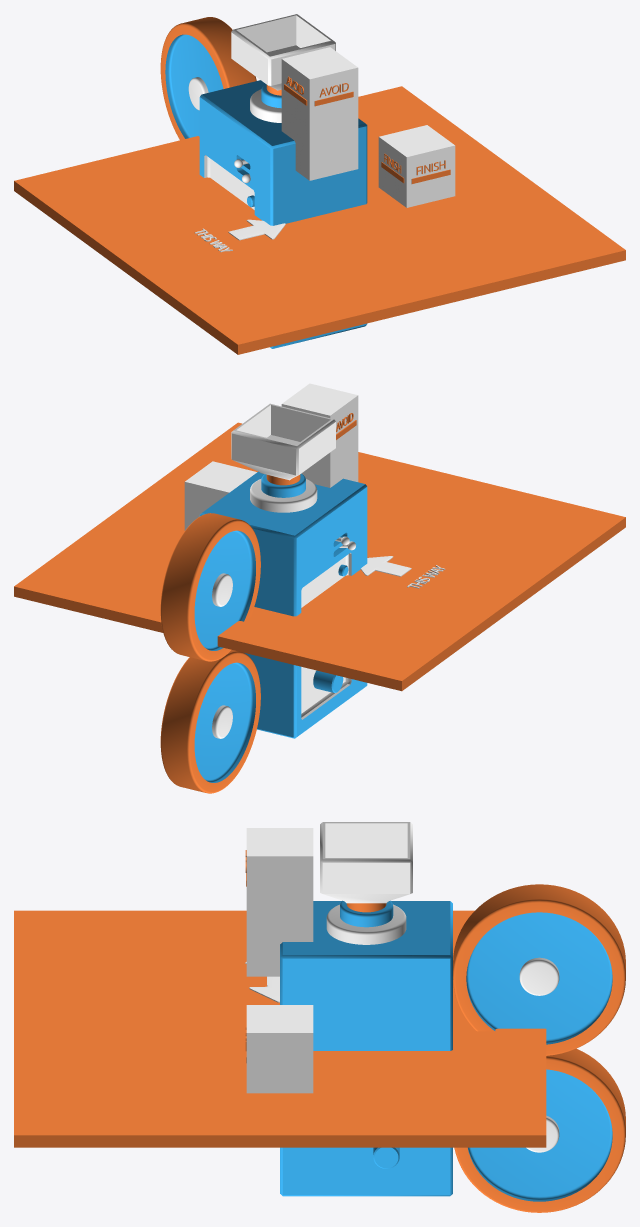
The model's file is stage.glb.
3 renders of one model, top to bottom at view 1: azimuth 30°, elevation 25°; view 2: azimuth 150°, elevation 25°; view 3: azimuth 270°, elevation 25°, orthographic. The views are drawn at different scales.
Visible parts, largest first — view 1: floor, Buffer Layer (×3), box (×2), Pin; view 2: floor, Buffer Layer (×3), box (×2), Pin; view 3: floor, Buffer Layer (×3), box (×2).
Boxes of the visible parts, left/top/right/bottom form: floor: left=14, top=86, right=625, bottom=354; Buffer Layer (×3): left=160, top=14, right=367, bottom=348; box (×2): left=281, top=47, right=455, bottom=207; Pin: left=228, top=219, right=285, bottom=240; floor: left=14, top=422, right=625, bottom=691; Buffer Layer (×3): left=160, top=403, right=367, bottom=793; box (×2): left=184, top=383, right=358, bottom=530; Pin: left=360, top=556, right=411, bottom=576; floor: left=14, top=910, right=546, bottom=1147; Buffer Layer (×3): left=280, top=822, right=625, bottom=1212; box (×2): left=246, top=828, right=313, bottom=1093.
Size of the model in its own units: 0.4 by 0.3025 by 0.46.
